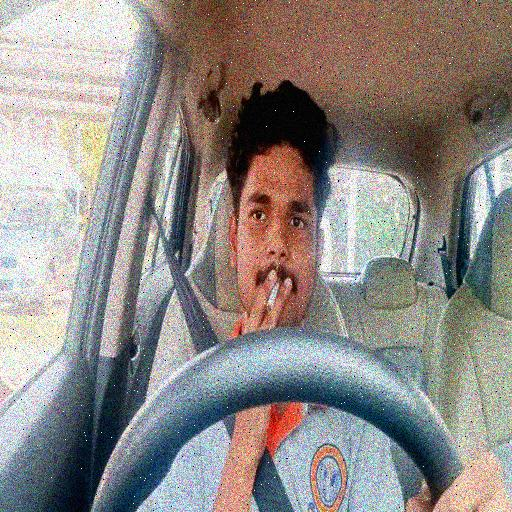Smoking: (125, 77, 512, 511)
